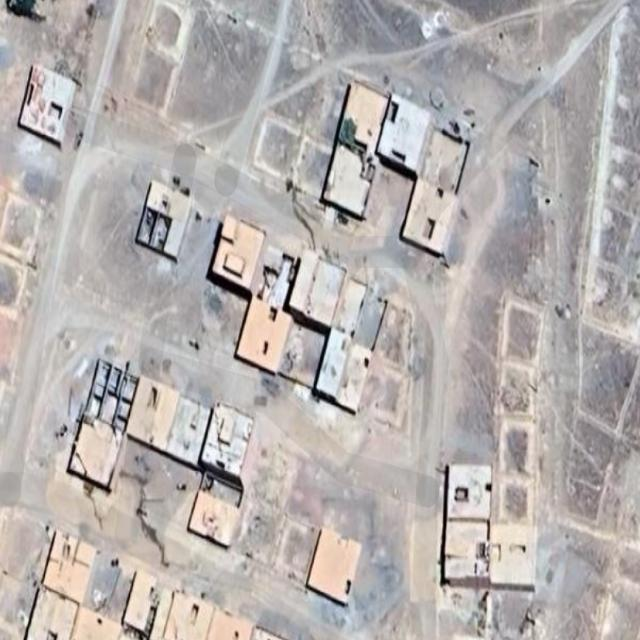Countryside roofs: (121, 159, 192, 265), (12, 49, 70, 174), (69, 410, 137, 511), (134, 366, 200, 464), (319, 147, 379, 253), (483, 514, 557, 594), (207, 213, 275, 300), (306, 325, 366, 423), (304, 515, 366, 608), (366, 98, 444, 170), (190, 470, 250, 562), (234, 287, 287, 387), (397, 172, 452, 267), (202, 391, 262, 478), (46, 521, 98, 615), (433, 457, 497, 524), (289, 248, 342, 328), (432, 519, 493, 588), (331, 85, 379, 153), (156, 590, 218, 640), (132, 583, 174, 640)
